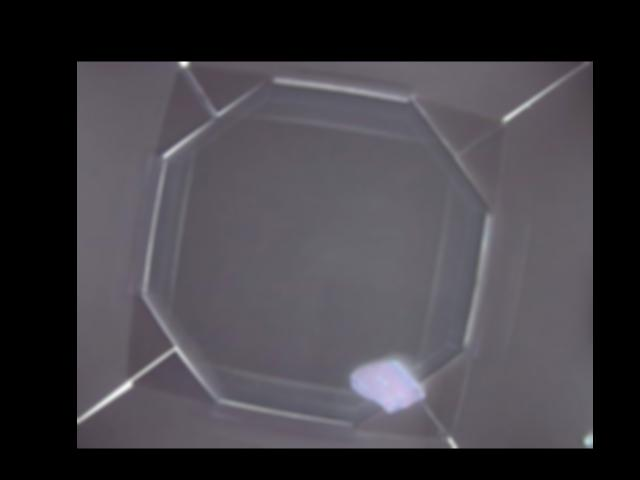China: (352, 356, 430, 413)
